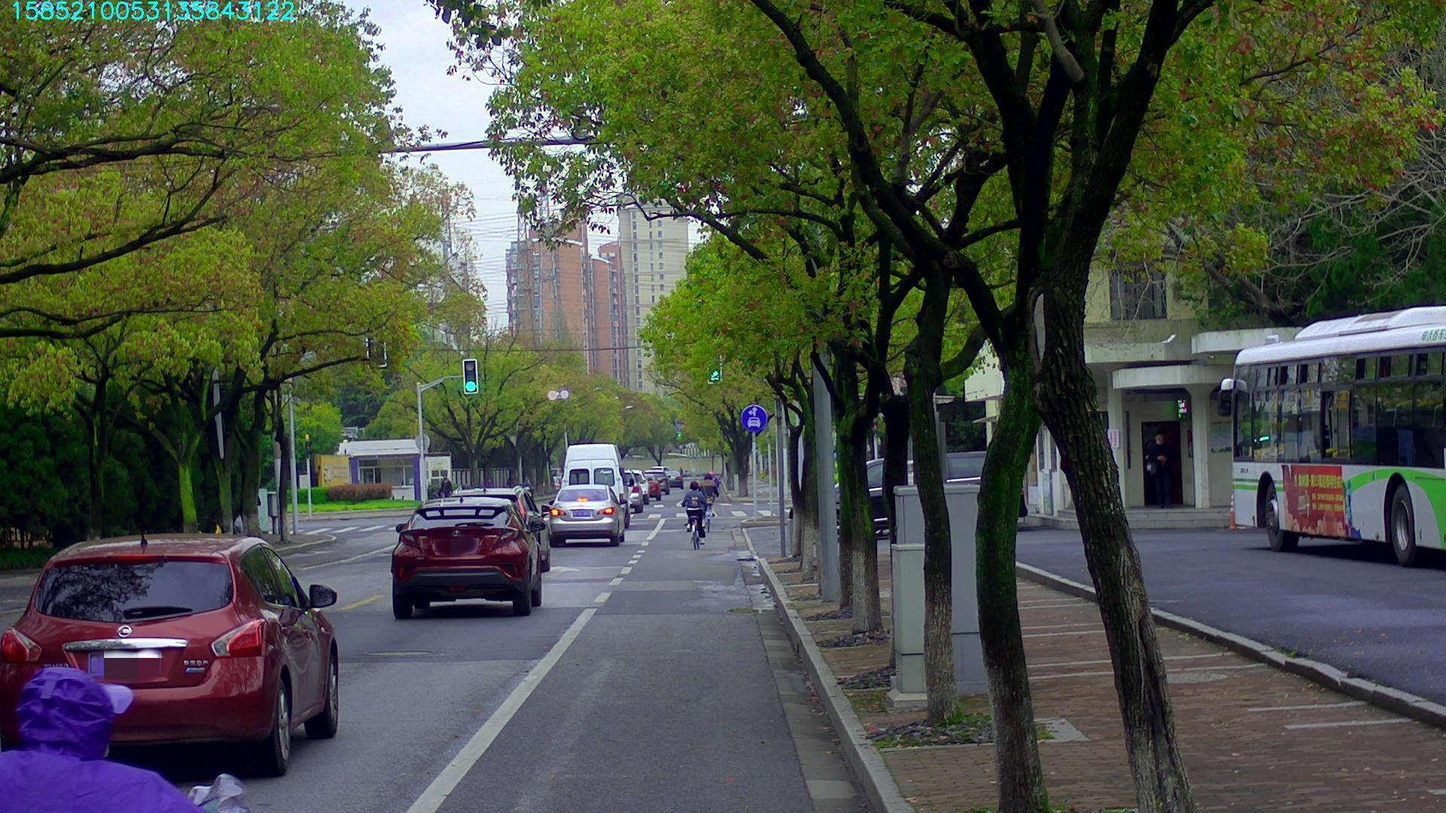green: (462, 359, 477, 392), (708, 355, 719, 382)
